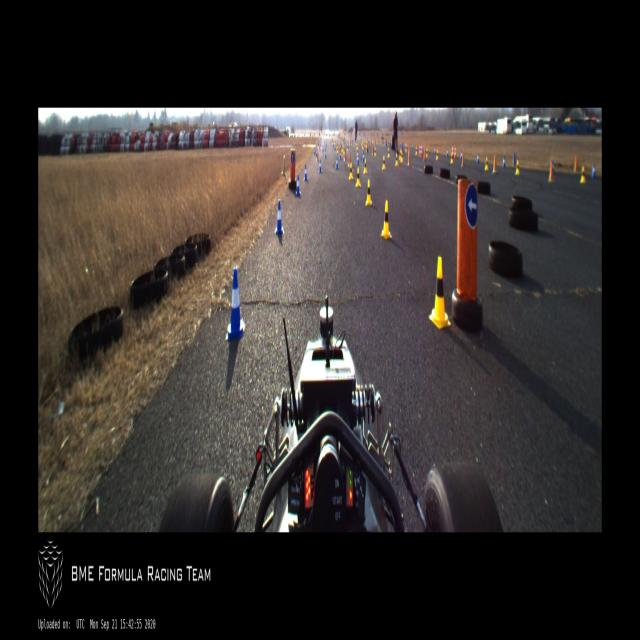blue_cone: (226, 268, 245, 340), (275, 200, 284, 235), (296, 176, 301, 196), (591, 164, 596, 178), (304, 164, 308, 181), (502, 154, 506, 169), (476, 152, 480, 165), (318, 160, 322, 172), (335, 157, 339, 169), (552, 161, 554, 174), (357, 154, 359, 166), (362, 152, 364, 162), (460, 151, 462, 160), (446, 148, 448, 157), (324, 149, 326, 158), (339, 151, 341, 160), (434, 146, 436, 154), (314, 150, 316, 156), (316, 150, 317, 156), (412, 143, 413, 149)
large_orange_cone: (454, 145, 457, 160), (418, 144, 421, 157), (420, 143, 422, 157), (452, 145, 454, 157)
yellow_cone: (429, 256, 451, 330), (381, 201, 392, 239), (366, 180, 372, 205), (355, 168, 361, 188), (580, 167, 586, 183), (515, 160, 520, 174), (349, 163, 353, 180), (382, 156, 386, 170), (364, 158, 367, 174), (450, 153, 454, 164), (485, 157, 488, 170), (399, 149, 401, 162), (396, 153, 398, 165), (401, 150, 403, 162), (436, 150, 438, 160), (416, 146, 418, 156), (388, 148, 390, 157), (426, 148, 428, 157), (374, 148, 376, 156), (356, 147, 358, 155), (406, 145, 408, 152), (343, 147, 345, 154)
